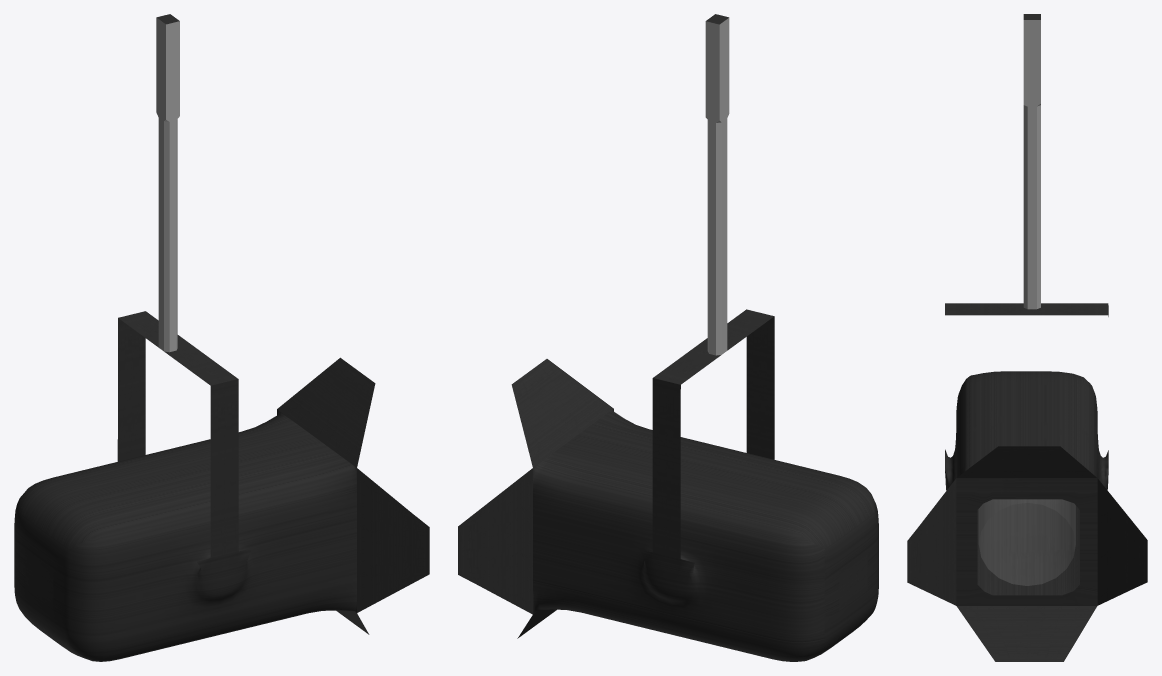
File: TheaterLight.fbx
3 views of the same model, side by side, from view 1: azimuth 30°, elevation 25°; view 2: azimuth 150°, elevation 25°; view 3: azimuth 270°, elevation 25° (orthographic). The views are drawn at different scales.
Parts seen in each view (by area): view 1: LightObject, Holder, Pole, RootPole; view 2: LightObject, Holder, Pole, RootPole; view 3: LightObject, pCylinder1, Pole, Holder, RootPole.
Part boxes in pixels (<box>): LightObject: <box>14,120,429,661</box>; Holder: <box>117,311,238,557</box>; Pole: <box>158,118,177,352</box>; RootPole: <box>156,14,179,121</box>; LightObject: <box>458,120,878,661</box>; Holder: <box>652,309,774,558</box>; Pole: <box>707,118,727,355</box>; RootPole: <box>705,14,729,122</box>; LightObject: <box>907,104,1147,661</box>; pCylinder1: <box>979,500,1075,585</box>; Pole: <box>1023,105,1040,309</box>; Holder: <box>945,303,1108,316</box>; RootPole: <box>1023,14,1040,106</box>.
Size of the model in its own units: 2.33 by 4.44 by 1.7.
Materials: 3 (1 with a texture image).
